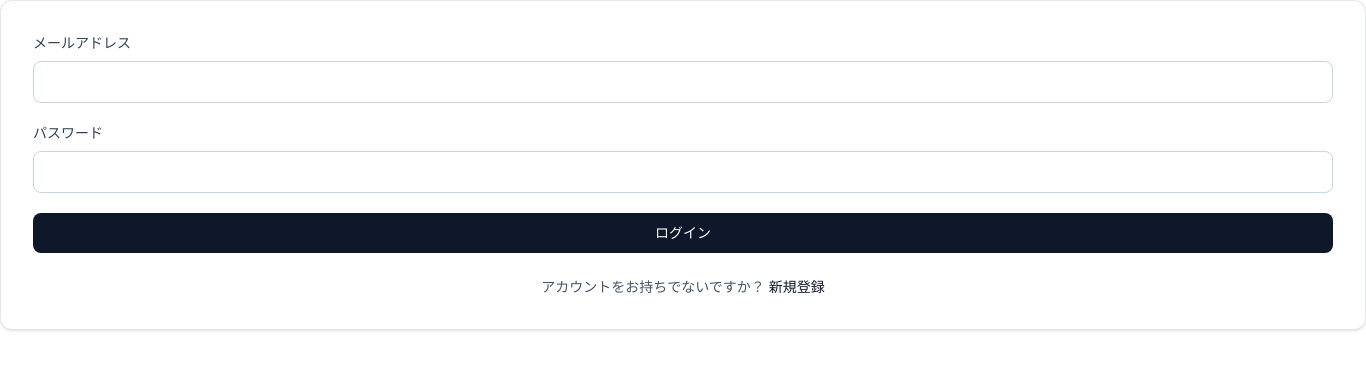
Test: LoginForm › 8文字未満のパスワードを拒否する
Step 1. Type "test@example.com" into the field labelled "メールアドレス" → (683, 82), box [33, 61, 1333, 103]
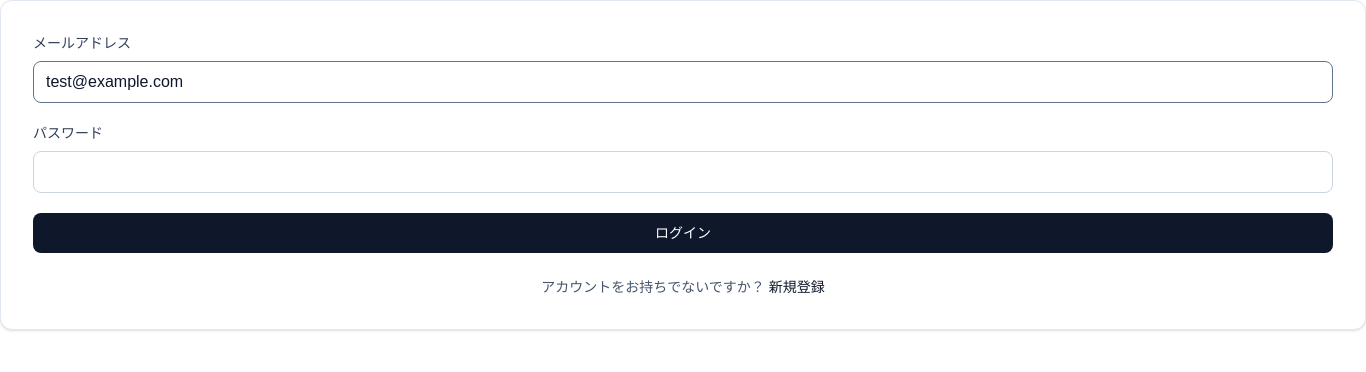
Step 2. Type "short" into the password field labelled "パスワード" → (683, 172), box [33, 151, 1333, 193]
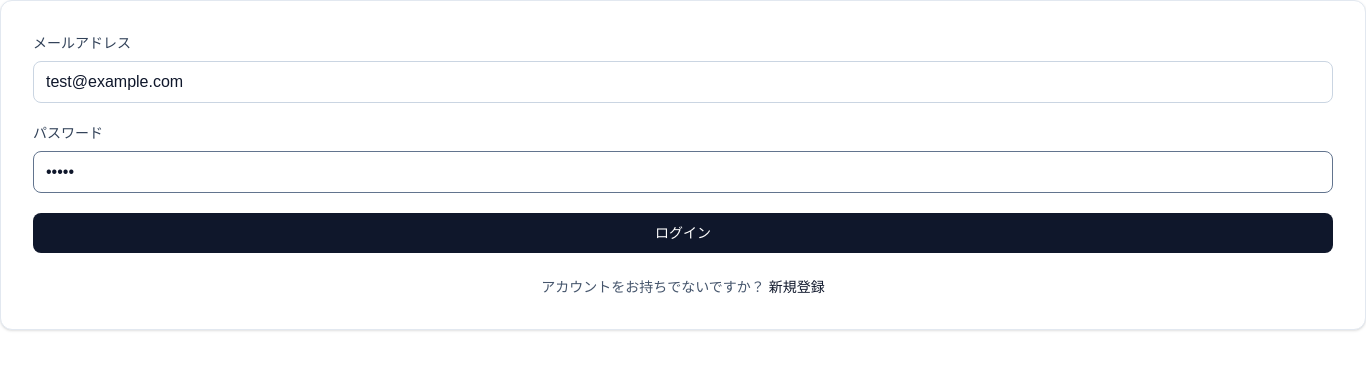
Step 3. Click the button "ログイン" → (683, 233), box [33, 213, 1333, 253]
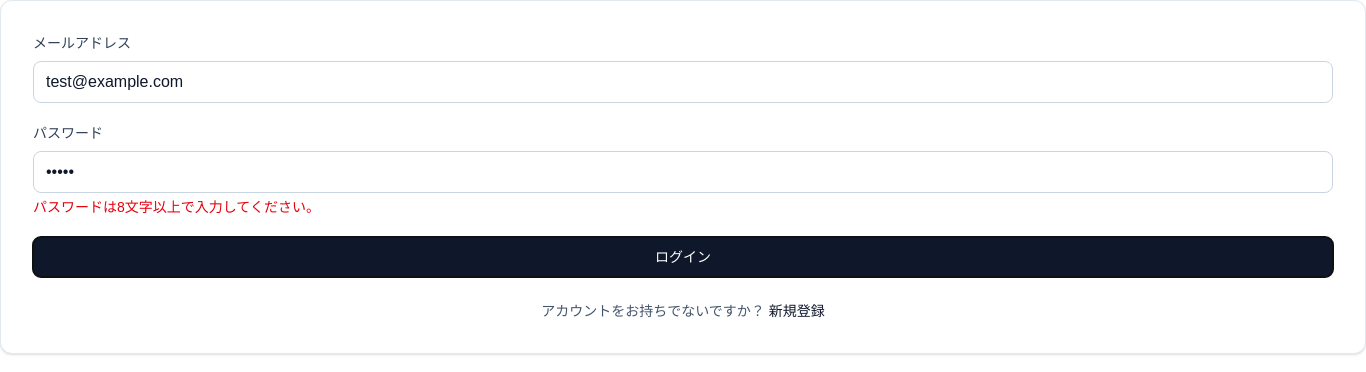
Check: the text "パスワードは8文字以上で入力してください。" is shown, box [33, 199, 320, 215]
